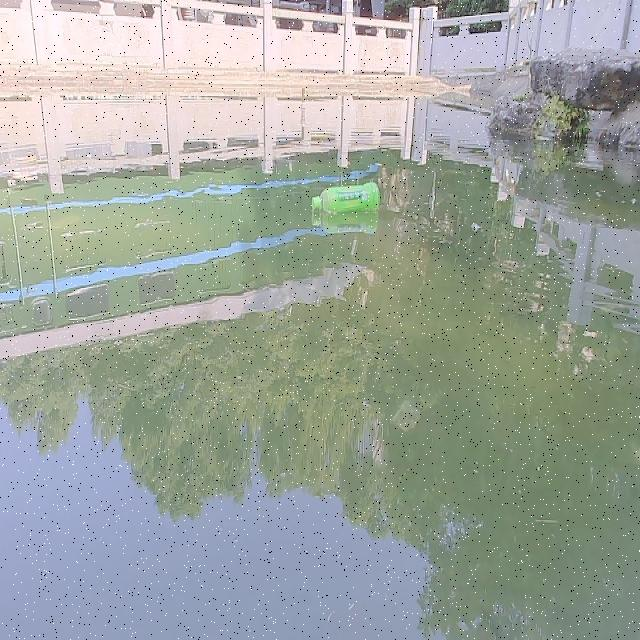Bottle: (304, 175, 382, 216)
